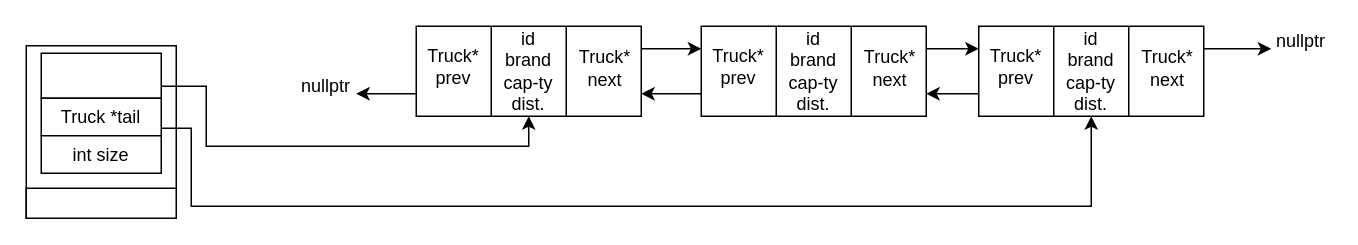
This 1358x245 diagram has some shape labels left out. The shapes that lost their labels are listed below. From the top down, each one's centre as x and y in pixels, then its label:
At (100,75): "Truck *head".
At (100,202): "TruckList".
